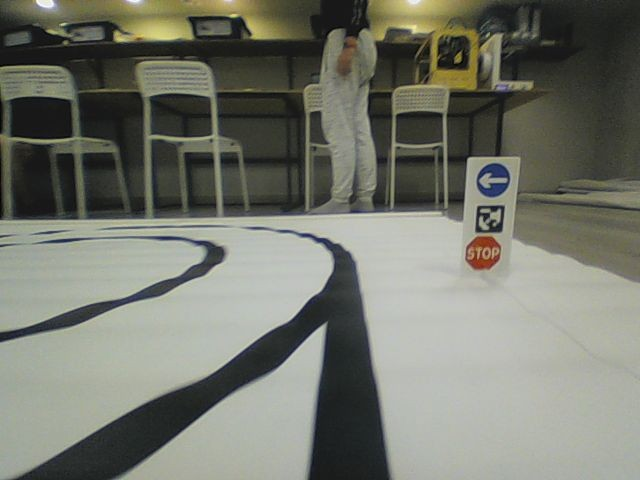Stop: (463, 235, 502, 271)
